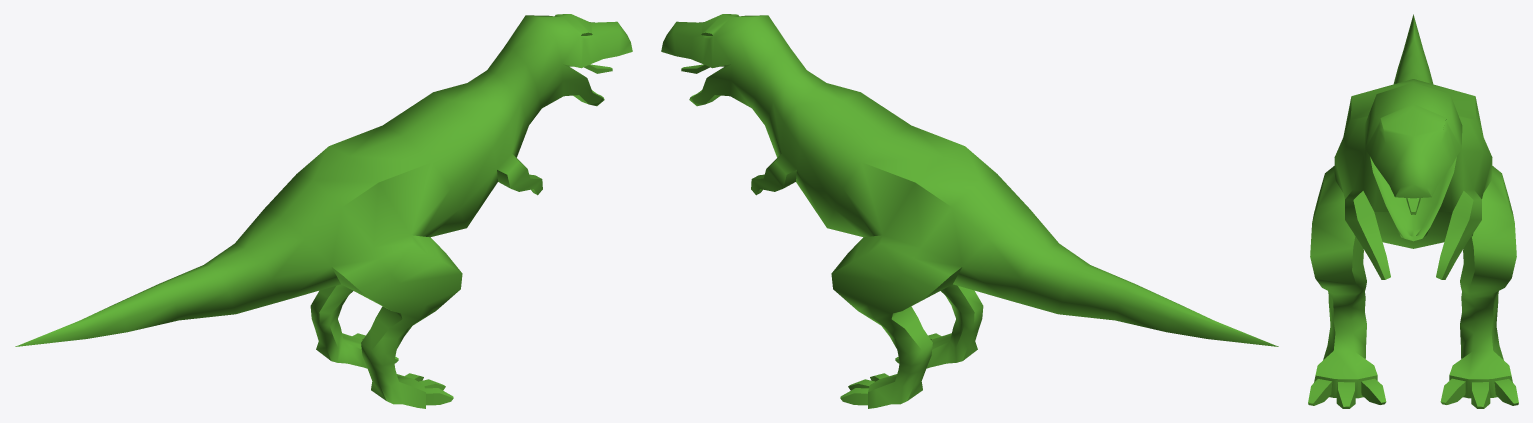
The model's file is dinazor.fbx.
The picture shows the model from 3 angles, left to right: view 1: azimuth 30°, elevation 25°; view 2: azimuth 150°, elevation 25°; view 3: azimuth 270°, elevation 25°; orthographic projection. The views are drawn at different scales.
Visible parts, largest first — view 1: dinazor; view 2: dinazor; view 3: dinazor.
Part boxes in pixels (x1,y1,x2,y2): dinazor: [15, 14, 632, 408]; dinazor: [661, 14, 1278, 408]; dinazor: [1308, 14, 1518, 408].
Bounding box in the file's own units: 56.68 × 28.7 × 13.52.
